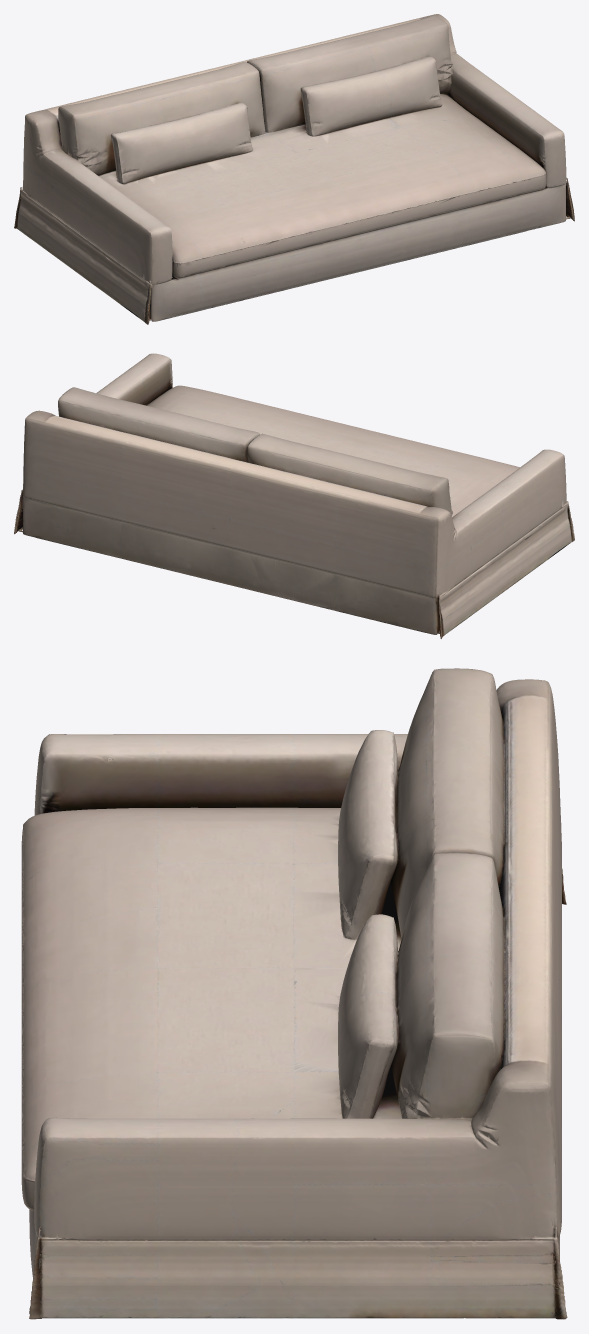
File: sofa-opt.glb
3 renders of one model, top to bottom at view 1: azimuth 30°, elevation 25°; view 2: azimuth 150°, elevation 25°; view 3: azimuth 270°, elevation 25°, orthographic. The views are drawn at different scales.
Visible parts, largest first — view 1: tmp4jj_r37yobj; view 2: tmp4jj_r37yobj; view 3: tmp4jj_r37yobj.
Part boxes in pixels (<box>): tmp4jj_r37yobj: <box>14,14,574,324</box>; tmp4jj_r37yobj: <box>14,353,574,638</box>; tmp4jj_r37yobj: <box>21,668,567,1319</box>.
Size of the model in its own units: 1 by 0.2943 by 0.553.
1 material, 1 textured.
